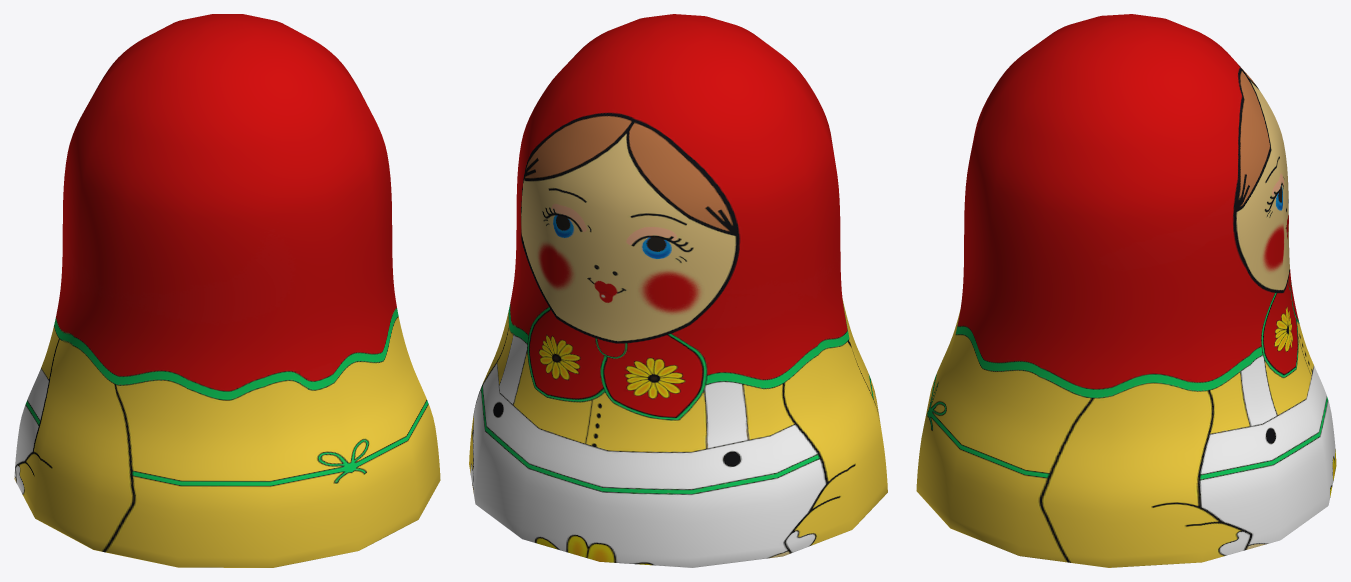
The model's file is mdl_hub_matryoshka_lid3.gltf.
3 renders of one model, left to right at view 1: azimuth 30°, elevation 25°; view 2: azimuth 150°, elevation 25°; view 3: azimuth 270°, elevation 25°, orthographic.
Visible parts, largest first — view 1: Lid_3; view 2: Lid_3; view 3: Lid_3.
Part boxes in pixels (x1,y1,x2,y2): Lid_3: [14, 14, 440, 567]; Lid_3: [469, 14, 887, 567]; Lid_3: [916, 14, 1336, 567].
Size of the model in its own units: 0.1085 by 0.1272 by 0.1077.
1 material, 1 textured.
